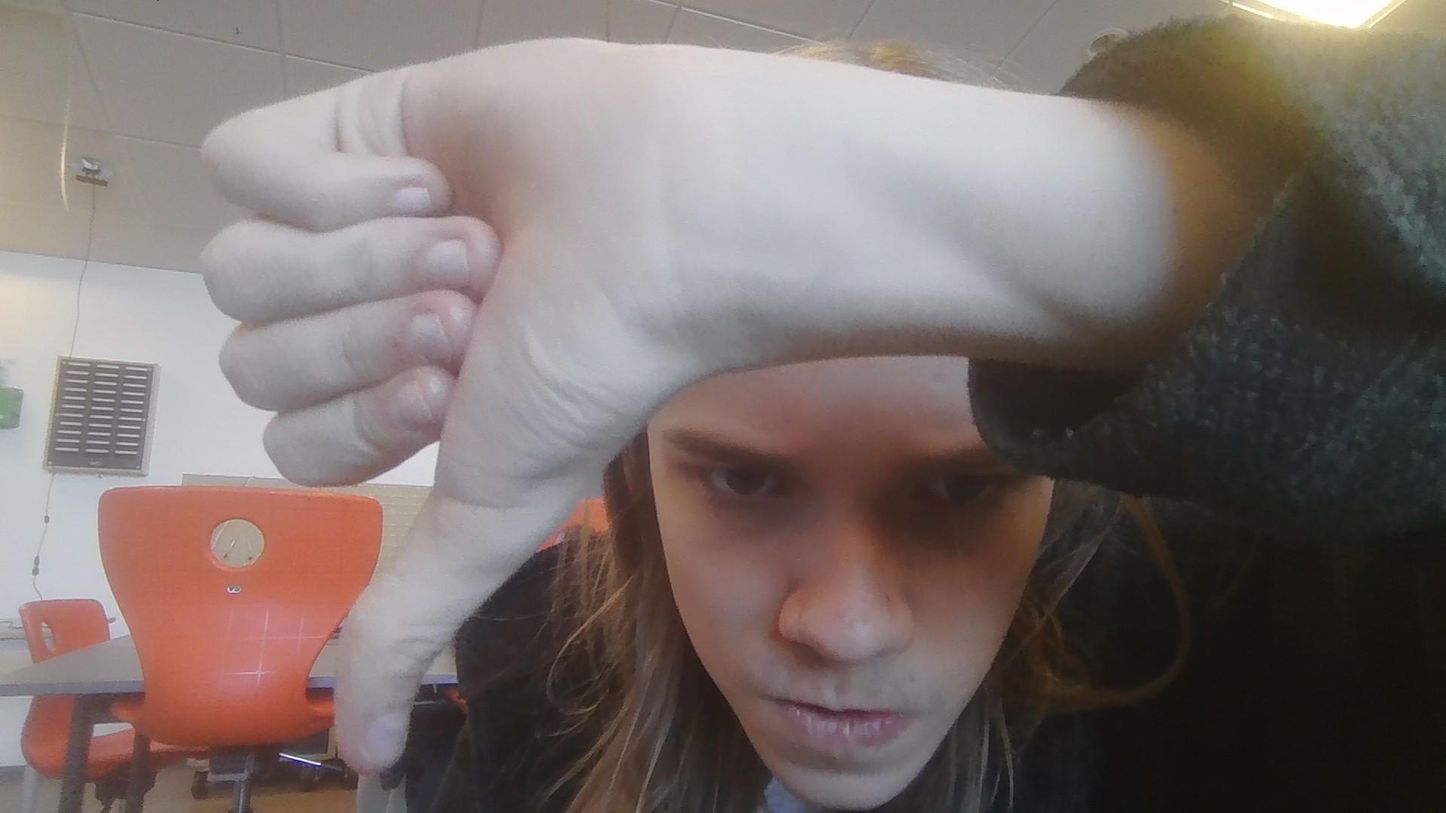thumbs down: (200, 24, 693, 764)
